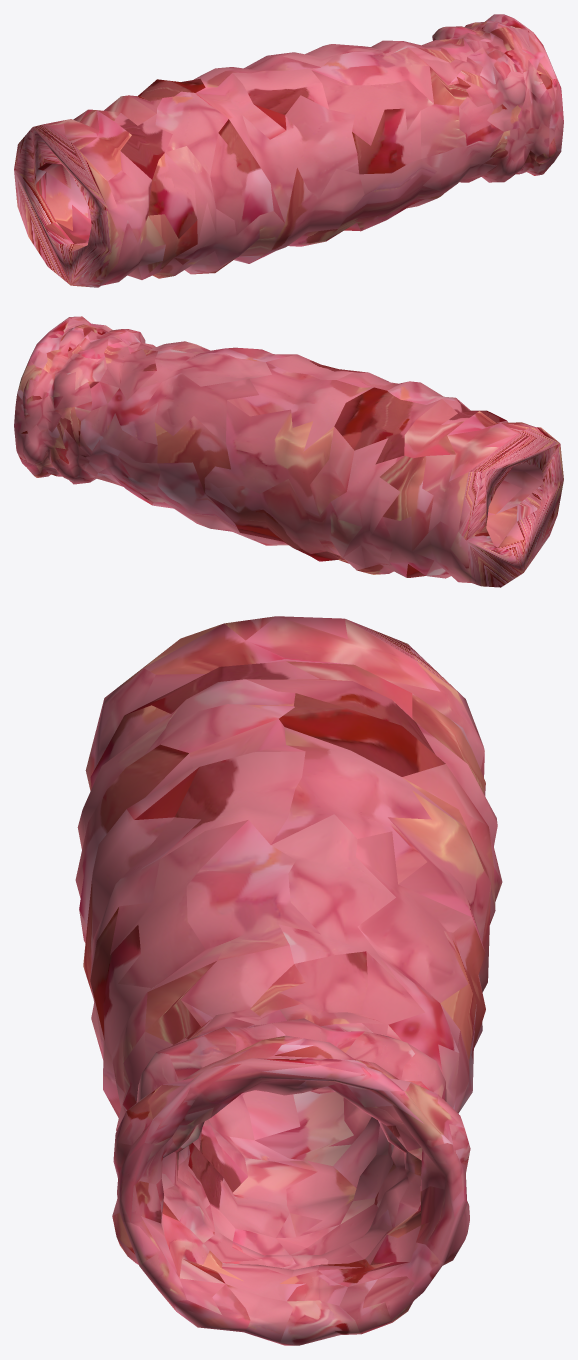
Rendered from Throat3.fbx.
3 renders of one model, top to bottom at view 1: azimuth 30°, elevation 25°; view 2: azimuth 150°, elevation 25°; view 3: azimuth 270°, elevation 25°, orthographic. The views are drawn at different scales.
Parts seen in each view (by area): view 1: Mesh_0; view 2: Mesh_0; view 3: Mesh_0.
Part boxes in pixels (<box>): Mesh_0: <box>14,14,563,287</box>; Mesh_0: <box>14,316,563,587</box>; Mesh_0: <box>75,616,502,1345</box>.
Size of the model in its own units: 1.64 by 0.5989 by 0.6561.
